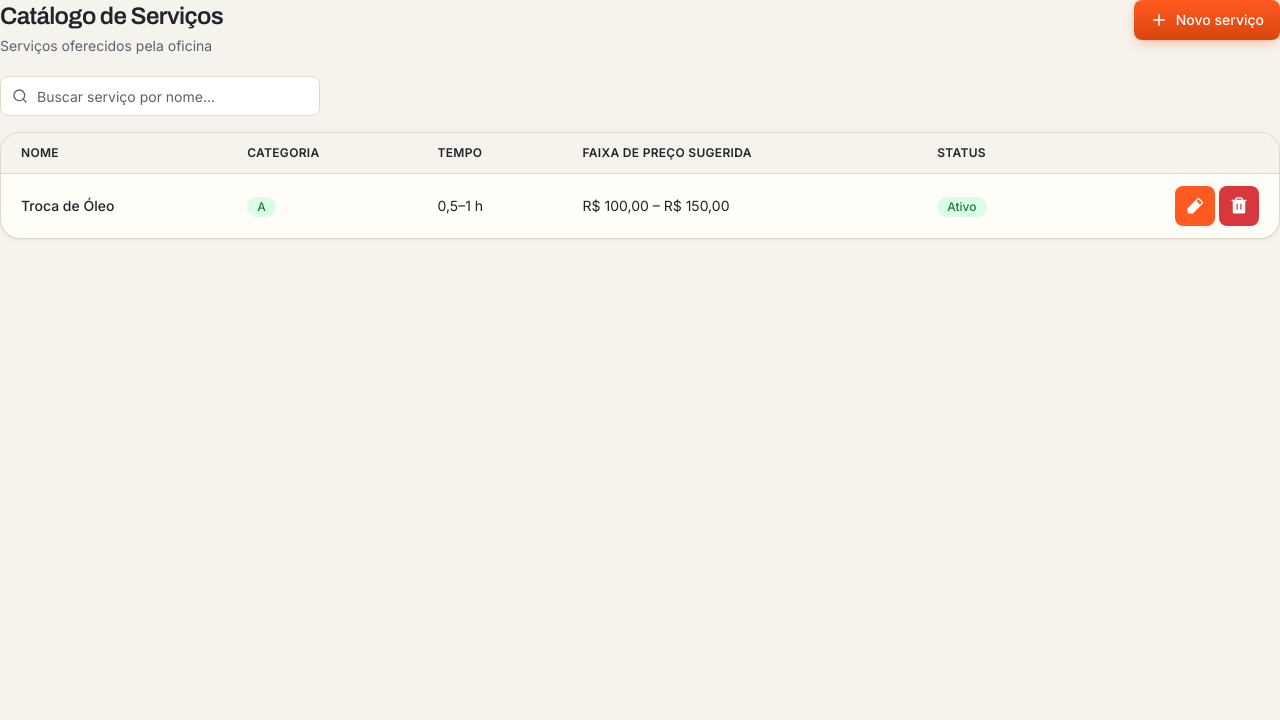
Test case: ServicosPage › opens the edit modal when a row is clicked
Click the text "Troca de Óleo".
click(68, 206)  # box 21,197 -> 114,214
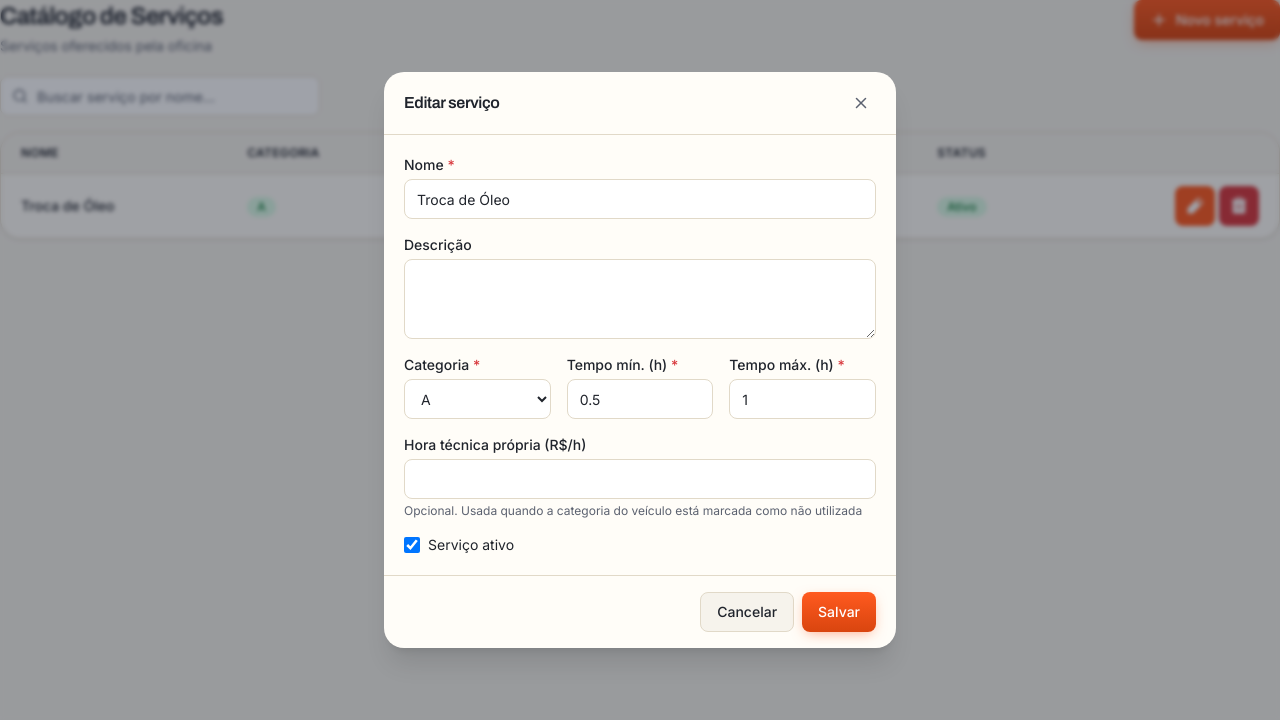
Expected: the heading "Editar serviço" is shown, 404,91 -> 500,115
